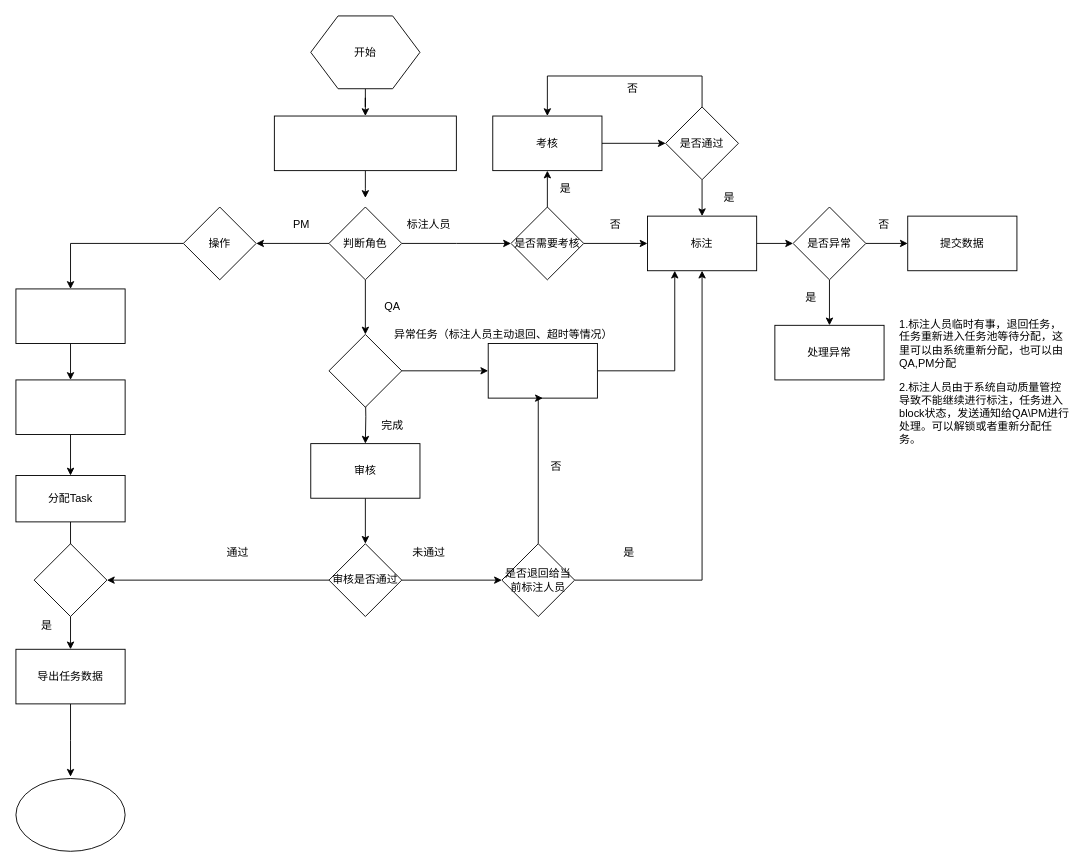
The diagram is 1089 pixels wide and 867 high, and some of its shapes have lost their labels. Each missing label, with the centre of its shape:
分配的任务是否全部完成: the point at 70,580
创建Project: the point at 70,316
创建Task: the point at 70,407
回收并重新分配: the point at 542,370
根据任务状态，处理任务: the point at 365,370
登陆: the point at 364,143
结束: the point at 70,814
